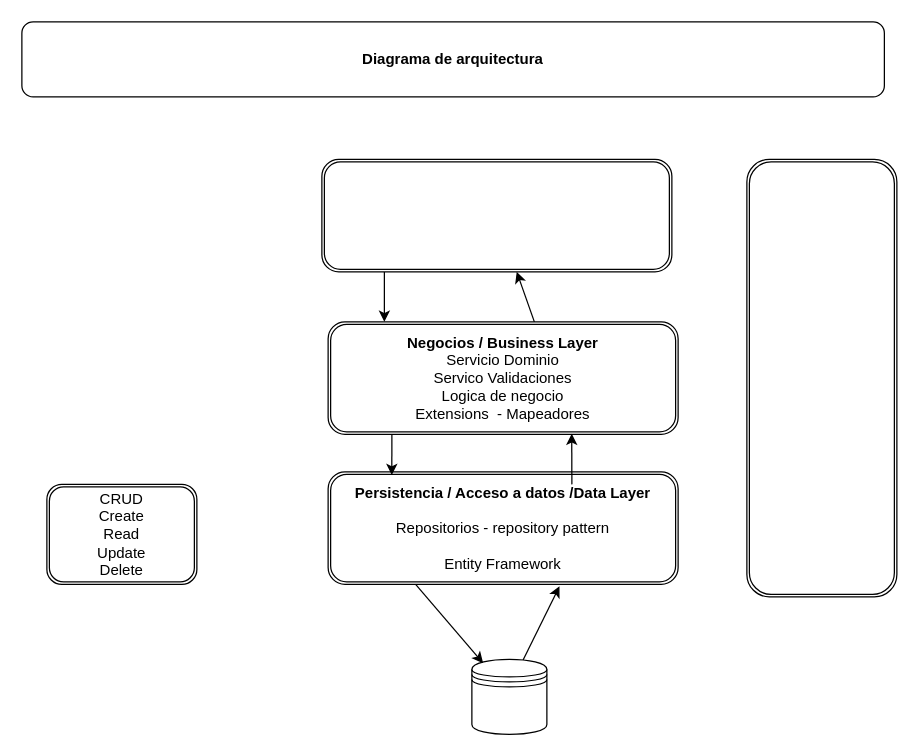
The diagram is 919 pixels wide and 756 high, and some of its shapes have lost their labels. Here are the shapes that lost their labels. From the top down, the centre of each, then its label:
At (x=496, y=215): "User Interface Web - Mobile - API".
At (x=821, y=377): "Transferencia de objetos DTO Data transfer object".
